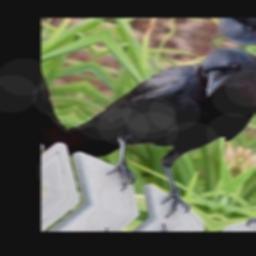Crow: (43, 21, 256, 229)
